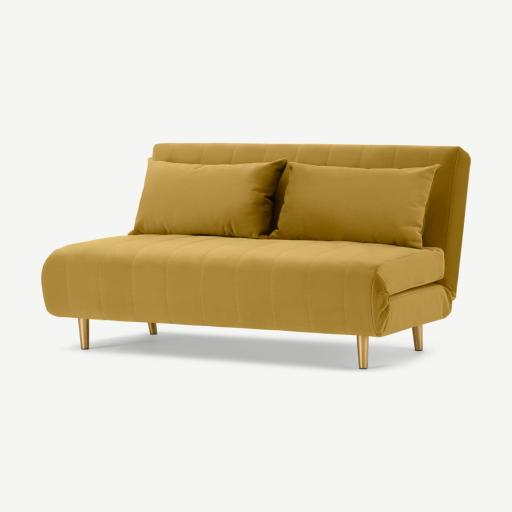back_cushion: (135, 145, 468, 292)
legs: (357, 336, 368, 369), (78, 318, 89, 349), (413, 325, 422, 351), (148, 323, 156, 334)
one-seater: (42, 143, 470, 368)
seat_cushion: (43, 235, 451, 335)
